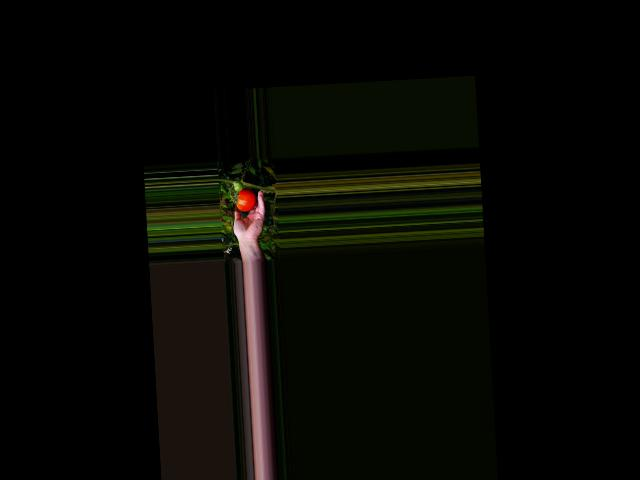tomato: (235, 187, 256, 212)
